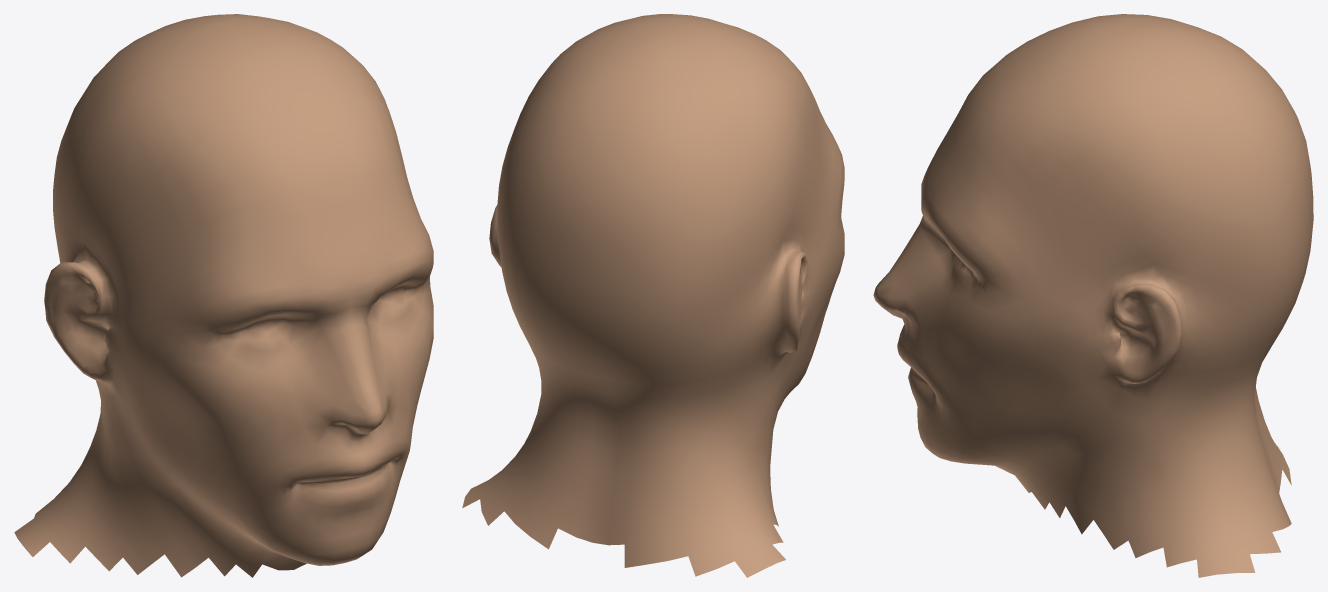
File: head.obj
3 renders of one model, left to right at view 1: azimuth 30°, elevation 25°; view 2: azimuth 150°, elevation 25°; view 3: azimuth 270°, elevation 25°, orthographic. The views are drawn at different scales.
Parts seen in each view (by area): view 1: FinalBaseMesh:Group1; view 2: FinalBaseMesh:Group1; view 3: FinalBaseMesh:Group1.
Part boxes in pixels (x1=…): FinalBaseMesh:Group1: x1=14, y1=14, x2=433, y2=577; FinalBaseMesh:Group1: x1=462, y1=14, x2=844, y2=577; FinalBaseMesh:Group1: x1=873, y1=14, x2=1313, y2=577.
Size of the model in its own units: 2.07 by 3 by 2.53.
